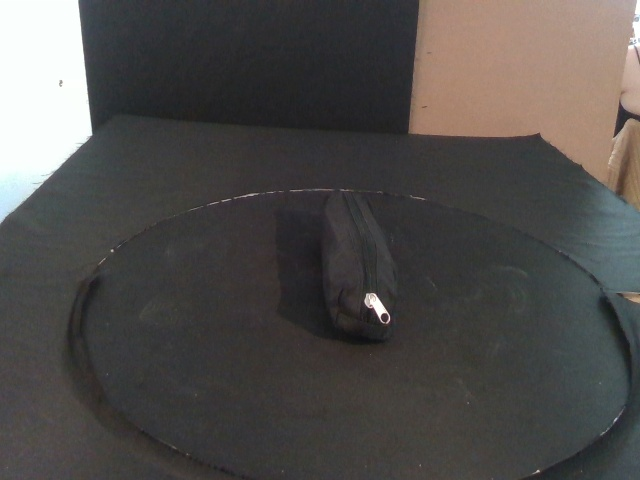pencil_case: (318, 190, 394, 343)
